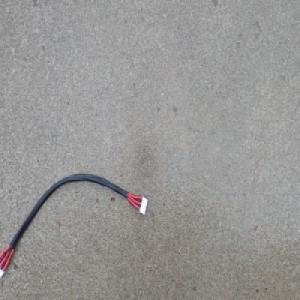Wire: (0, 172, 149, 281)
